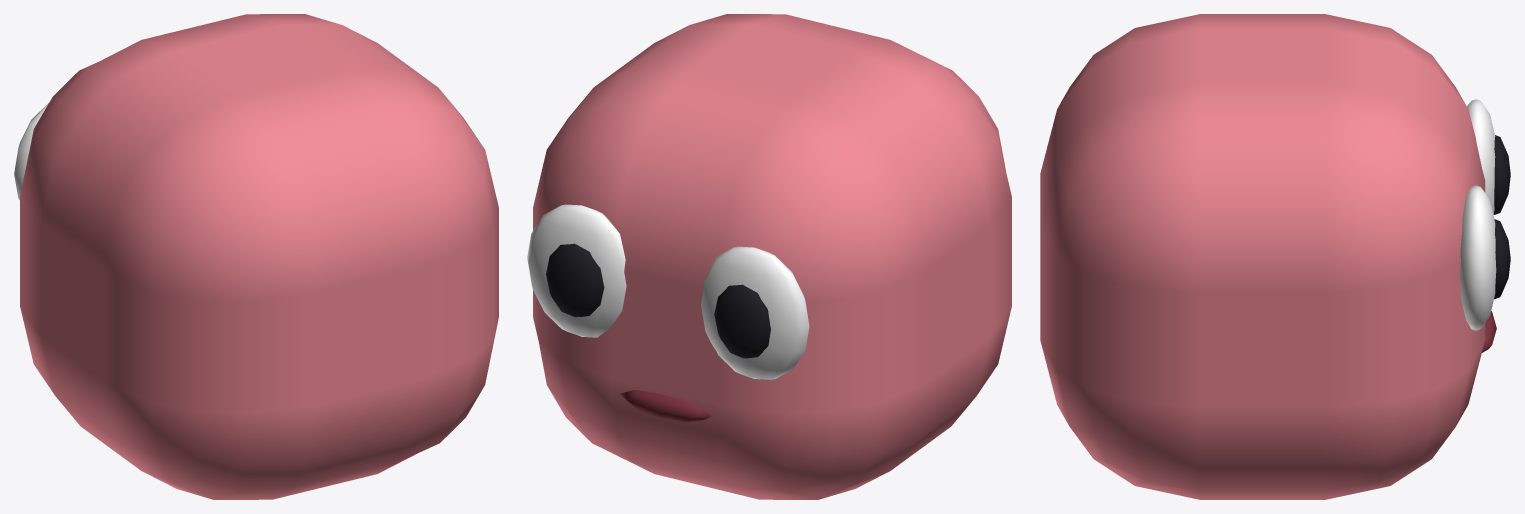
Rendered from worm_head_jelly.glb.
The picture shows the model from 3 angles, left to right: view 1: azimuth 30°, elevation 25°; view 2: azimuth 150°, elevation 25°; view 3: azimuth 270°, elevation 25°; orthographic projection. The views are drawn at different scales.
Visible parts, largest first — view 1: worm_head_jelly; view 2: worm_head_jelly; view 3: worm_head_jelly.
Boxes of the visible parts, x1,y1,x2,y2 form: worm_head_jelly: (14, 14, 498, 499); worm_head_jelly: (527, 14, 1011, 499); worm_head_jelly: (1040, 14, 1510, 499).
Bounding box in the file's own units: 0.96 × 0.96 × 1.02.
